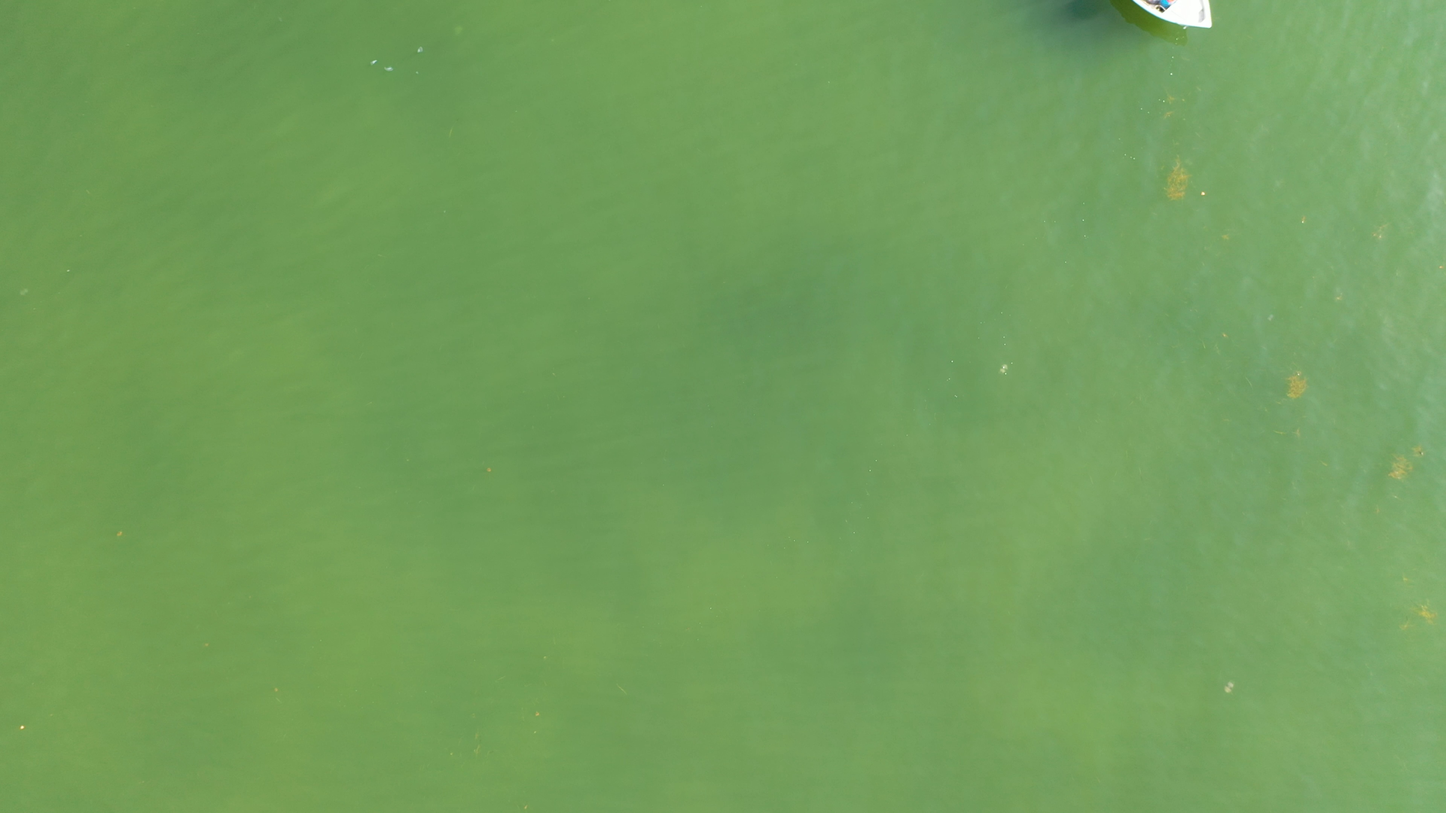meduse: (451, 23, 461, 35), (1224, 682, 1235, 692), (1000, 364, 1009, 373), (20, 287, 28, 295), (1268, 315, 1274, 321)
